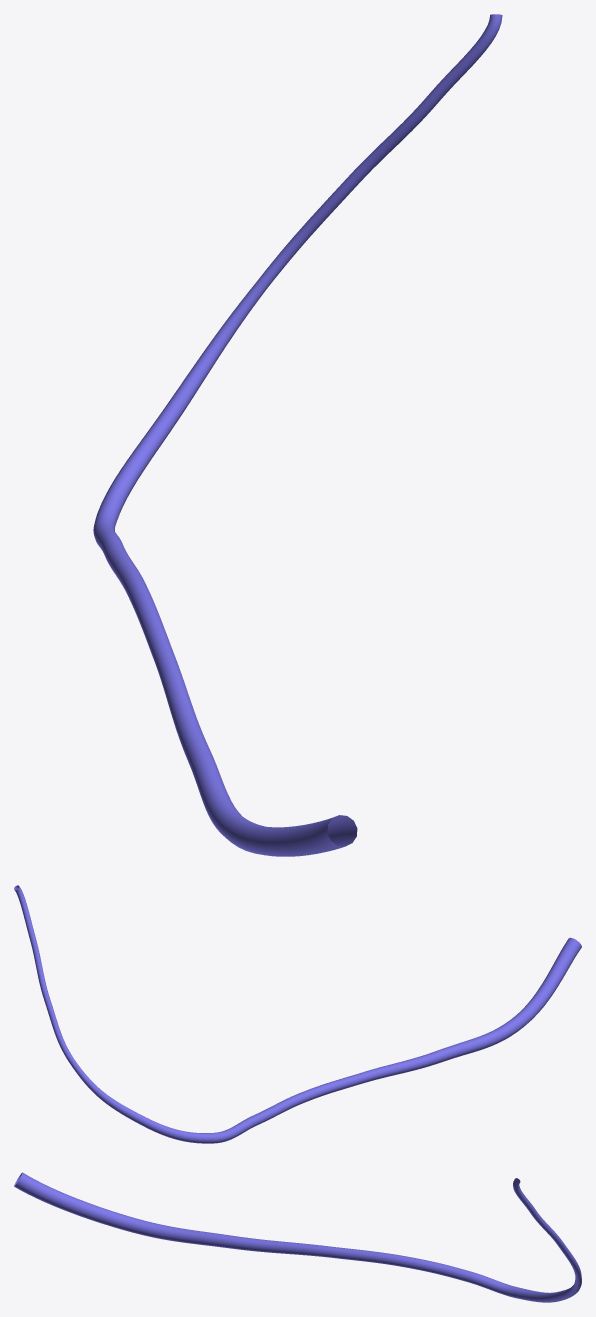
Rendered from Medial_circumflex_femoral_veins.l_BezierCurve.394.glb.
3 renders of one model, top to bottom at view 1: azimuth 30°, elevation 25°; view 2: azimuth 150°, elevation 25°; view 3: azimuth 270°, elevation 25°, orthographic. The views are drawn at different scales.
Parts seen in each view (by area): view 1: Medial_circumflex_femoral_veins.l_BezierCurve.394; view 2: Medial_circumflex_femoral_veins.l_BezierCurve.394; view 3: Medial_circumflex_femoral_veins.l_BezierCurve.394.
Part boxes in pixels (x1,y1,x2,y2): Medial_circumflex_femoral_veins.l_BezierCurve.394: (93,14,502,856); Medial_circumflex_femoral_veins.l_BezierCurve.394: (14,885,581,1143); Medial_circumflex_femoral_veins.l_BezierCurve.394: (14,1172,581,1302).
Size of the model in its own units: 0.0423 by 0.026 by 0.0614.
